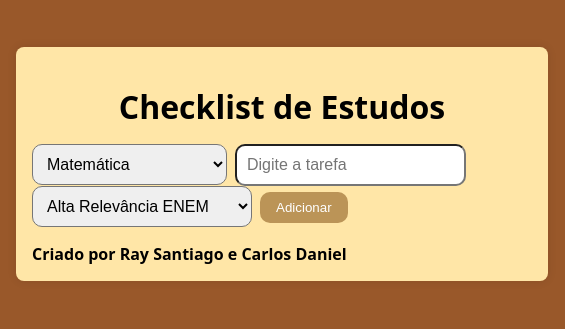
Test: remover uma tarefa
The width and height of the screenshot is (565, 329).
Select "Química" in the 1st dropdown showing "Matemática" at (130, 164), box [32,144,227,185]
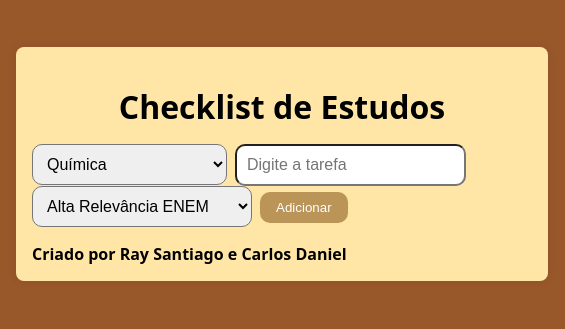
Type "Organica" into the field with placeholder "Digite a tarefa".
click(350, 165); type("Organica")  # box [235,144,466,186]
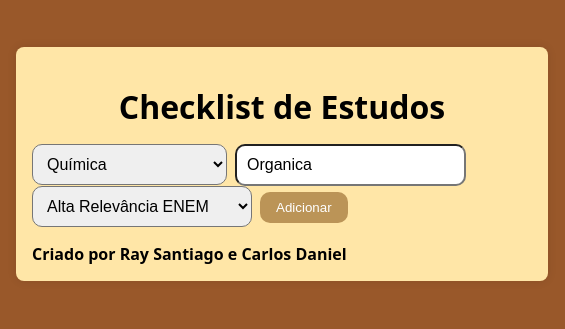
Select "Média Relevância ENEM" in the 2nd dropdown showing "Alta Relevância ENEM" at (142, 206), box [32,186,252,227]
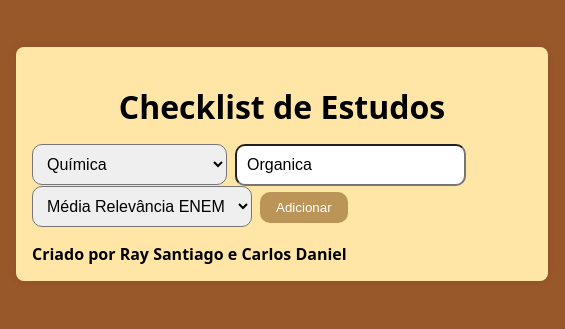
Click the button "Adicionar".
click(304, 207)  # box [260,192,348,223]
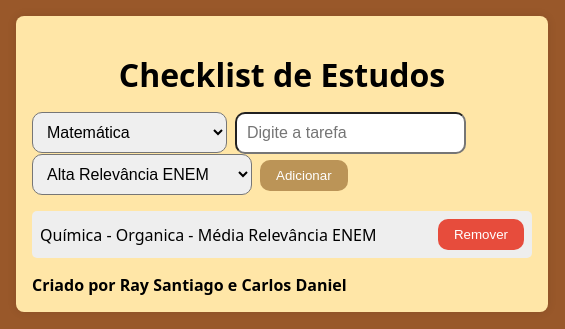
Expected: the list item "Química - Organica - Média Relevância ENEM" is shown, [32,211,532,258]
Click the button "Remover".
click(481, 235)  # box [438,219,524,250]
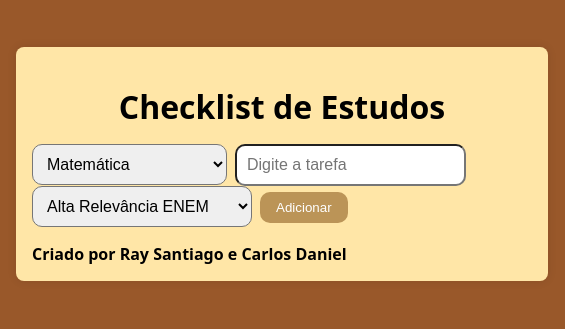
Expected: the list item "Química - Organica - Média Relevância ENEM" is gone
